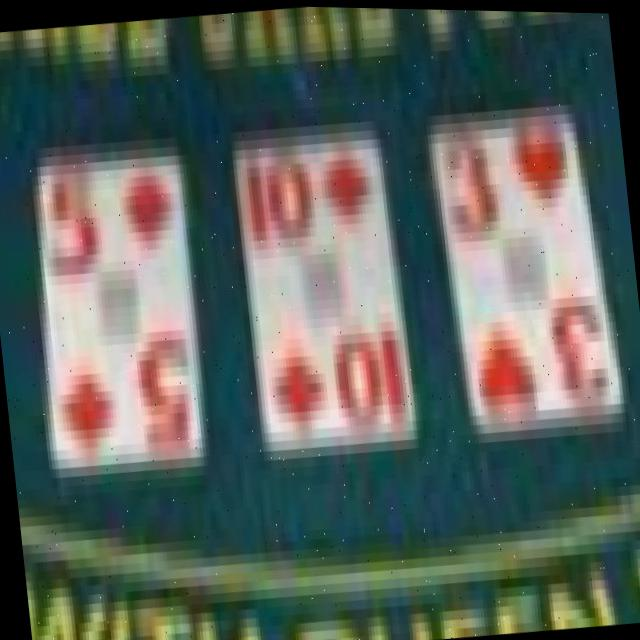Card-10: (235, 130, 414, 461)
Card-3: (434, 108, 622, 430)
Card-5: (37, 152, 202, 469)
